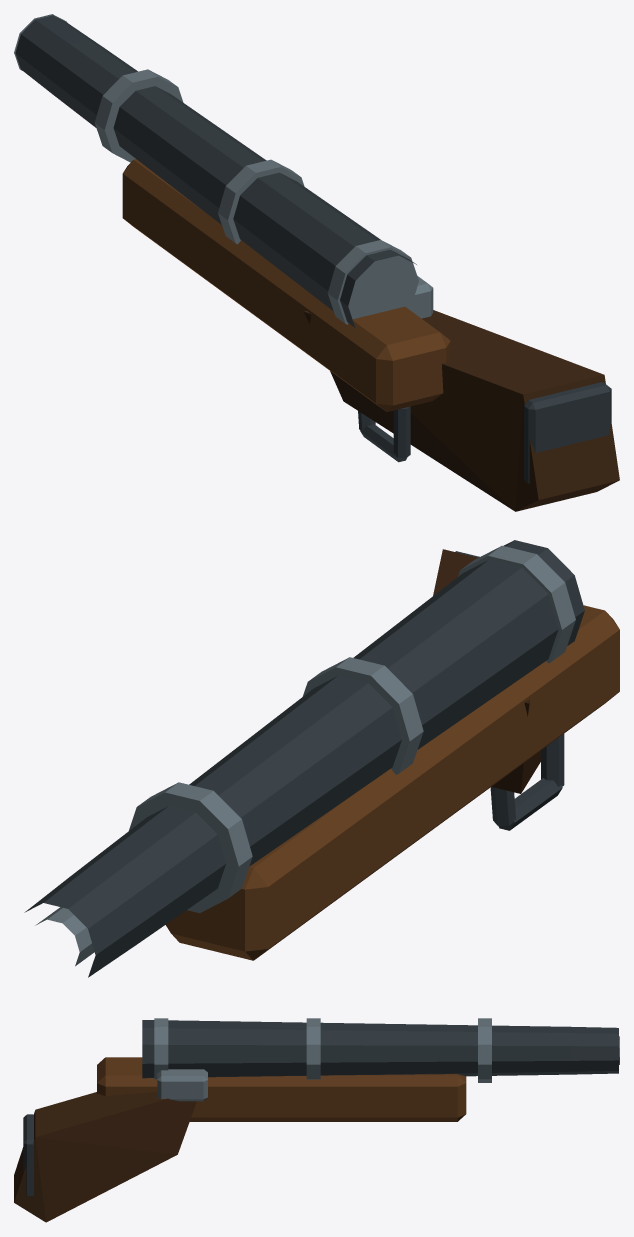
Rendered from Musket.glb.
3 views of the same model, one above another, from view 1: azimuth 30°, elevation 25°; view 2: azimuth 150°, elevation 25°; view 3: azimuth 270°, elevation 25° (orthographic). The views are drawn at different scales.
Parts seen in each view (by area): view 1: Sculpture; view 2: Sculpture; view 3: Sculpture.
Boxes of the visible parts, <box> form: Sculpture: <box>14,14,619,511</box>; Sculpture: <box>24,540,619,977</box>; Sculpture: <box>14,1018,619,1222</box>.
Size of the model in its own units: 0.2735 by 0.314 by 1.13.
